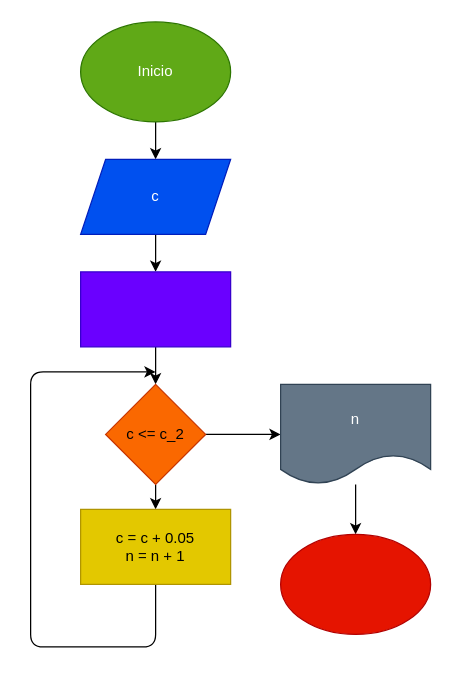
The diagram is 453 pixels wide and 679 high, and some of its shapes have lost their labels. Here are the shapes that lost their labels. From the top down, the centre of each, then its label:
the point at 155,309: n = 0 c_2 = c * 2
the point at 355,583: Fin
